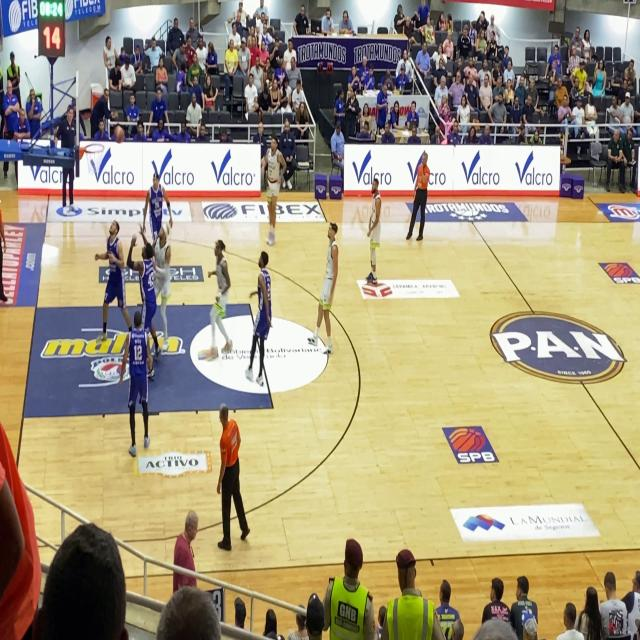Ball: (114, 122, 124, 145)
referee: (206, 397, 256, 555), (408, 142, 430, 280)
team1: (255, 110, 289, 246), (204, 234, 240, 358), (143, 215, 181, 323), (360, 177, 388, 300), (318, 216, 340, 360)
team2: (94, 215, 130, 359), (247, 243, 275, 409), (128, 305, 154, 454), (130, 227, 164, 317), (144, 170, 176, 241)
